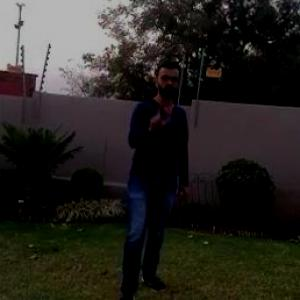land_hand: (145, 101, 173, 137)
